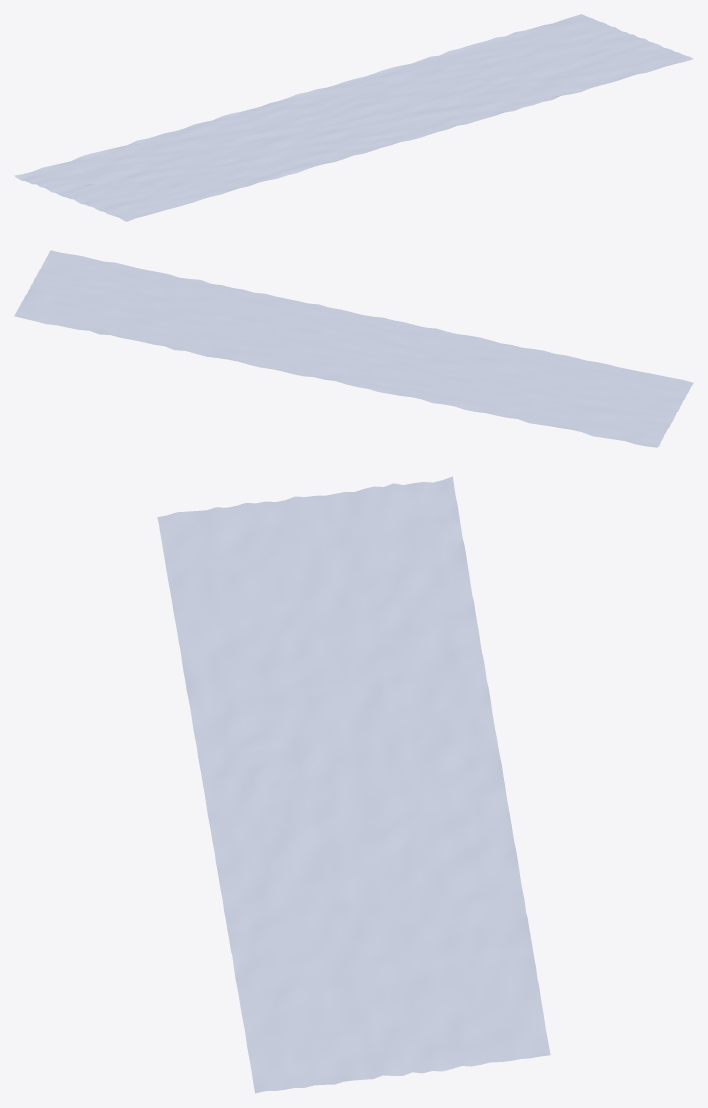
Rendered from water_wave_for_ar_draco.glb.
3 renders of one model, top to bottom at view 1: azimuth 30°, elevation 25°; view 2: azimuth 150°, elevation 25°; view 3: azimuth 270°, elevation 25°, orthographic. The views are drawn at different scales.
Visible parts, largest first — view 1: PlaneShape_0; view 2: PlaneShape_0; view 3: PlaneShape_0.
Boxes of the visible parts, x1,y1,x2,y2 form: PlaneShape_0: (14,14,692,221); PlaneShape_0: (14,250,693,447); PlaneShape_0: (157,476,550,1093).
Size of the model in its own units: 1687 by 7.03 by 455.
